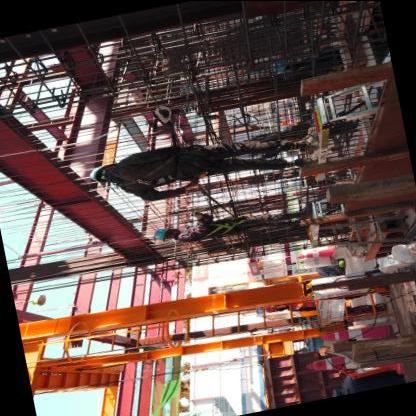safety-shoe: (296, 123, 326, 153), (294, 200, 316, 221), (299, 154, 319, 167)
